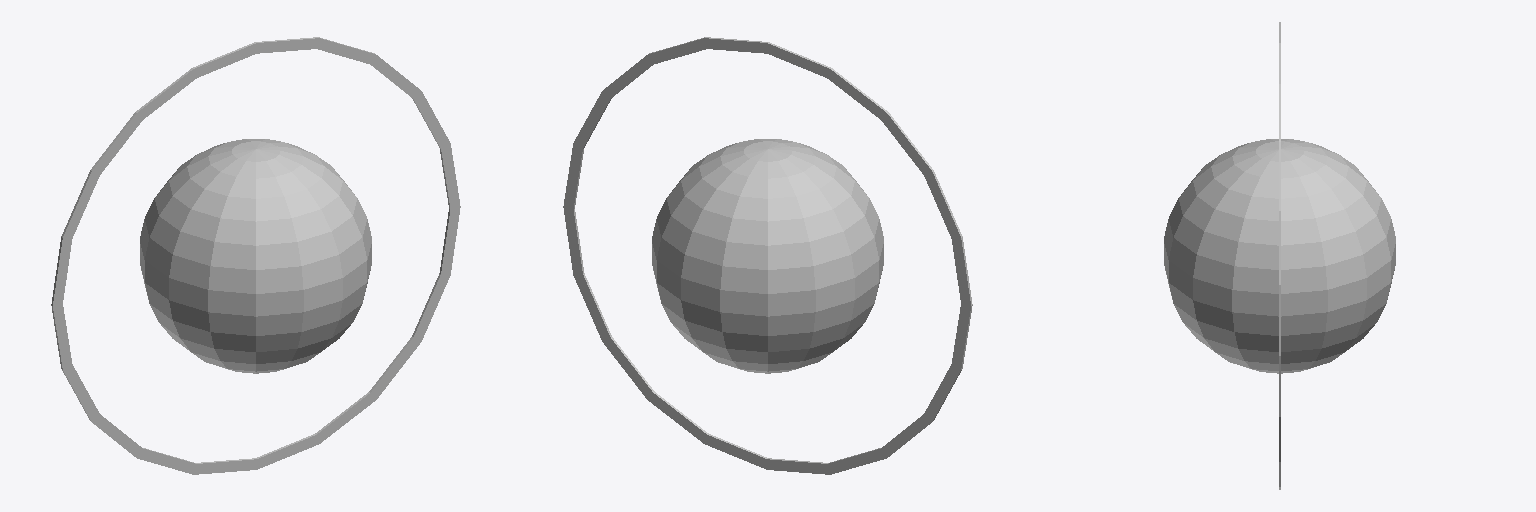
File: ControllerTP2.obj
3 renders of one model, left to right at view 1: azimuth 30°, elevation 25°; view 2: azimuth 150°, elevation 25°; view 3: azimuth 270°, elevation 25°, orthographic.
Visible parts, largest first — view 1: pSphere1, pPipe1; view 2: pSphere1, pPipe1; view 3: pSphere1, pPipe1.
Boxes of the visible parts, box(x1,y1,x2,y2) form: pSphere1: box(140, 139, 371, 373); pPipe1: box(51, 37, 460, 474); pSphere1: box(652, 139, 883, 373); pPipe1: box(563, 37, 972, 474); pSphere1: box(1164, 139, 1395, 373); pPipe1: box(1279, 22, 1280, 489).
Size of the model in its own units: 1 by 1 by 0.4945.